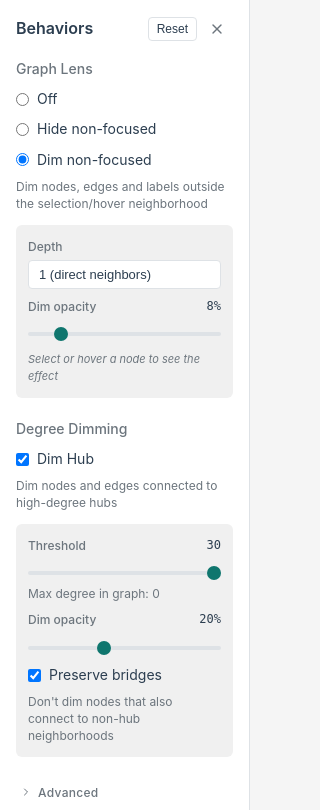
Scenario: BehaviorPanel › map-style pan › checkbox reflects the current store value
What coordinates should you click on to do the following:
click the text "Advanced"
I would click on:
 (68, 792)
Its box is [38, 783, 99, 802].
(page scrolled)
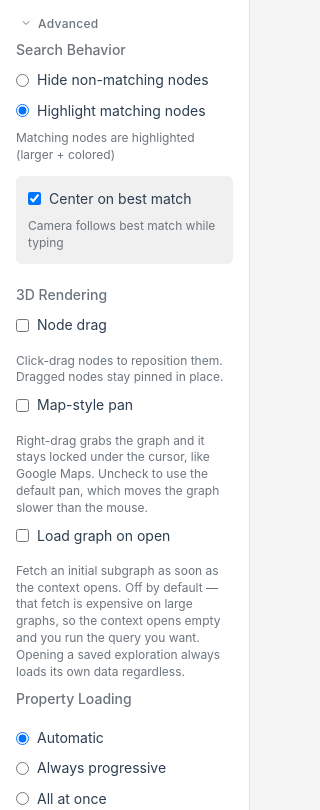
Expected: the checkbox with test id "map-style-pan-checkbox" is not checked, [16, 399, 29, 412]
